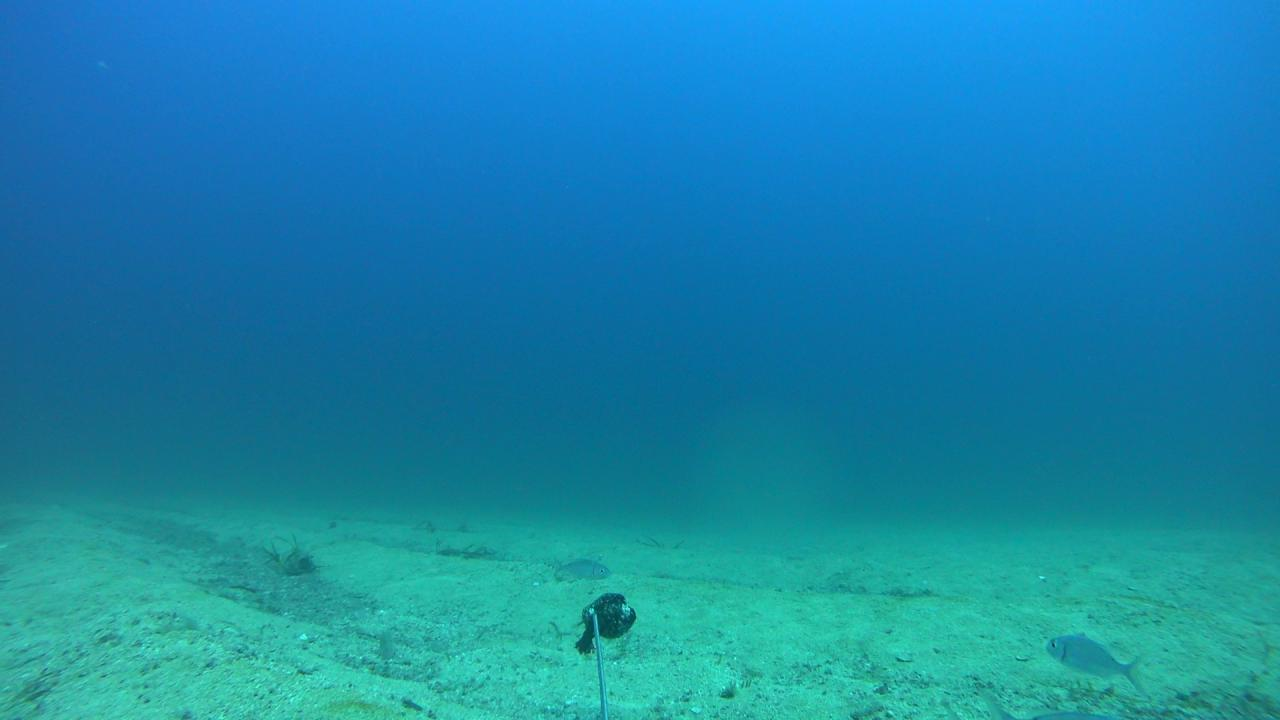pagellus: (1045, 633, 1143, 691), (551, 556, 610, 581)
